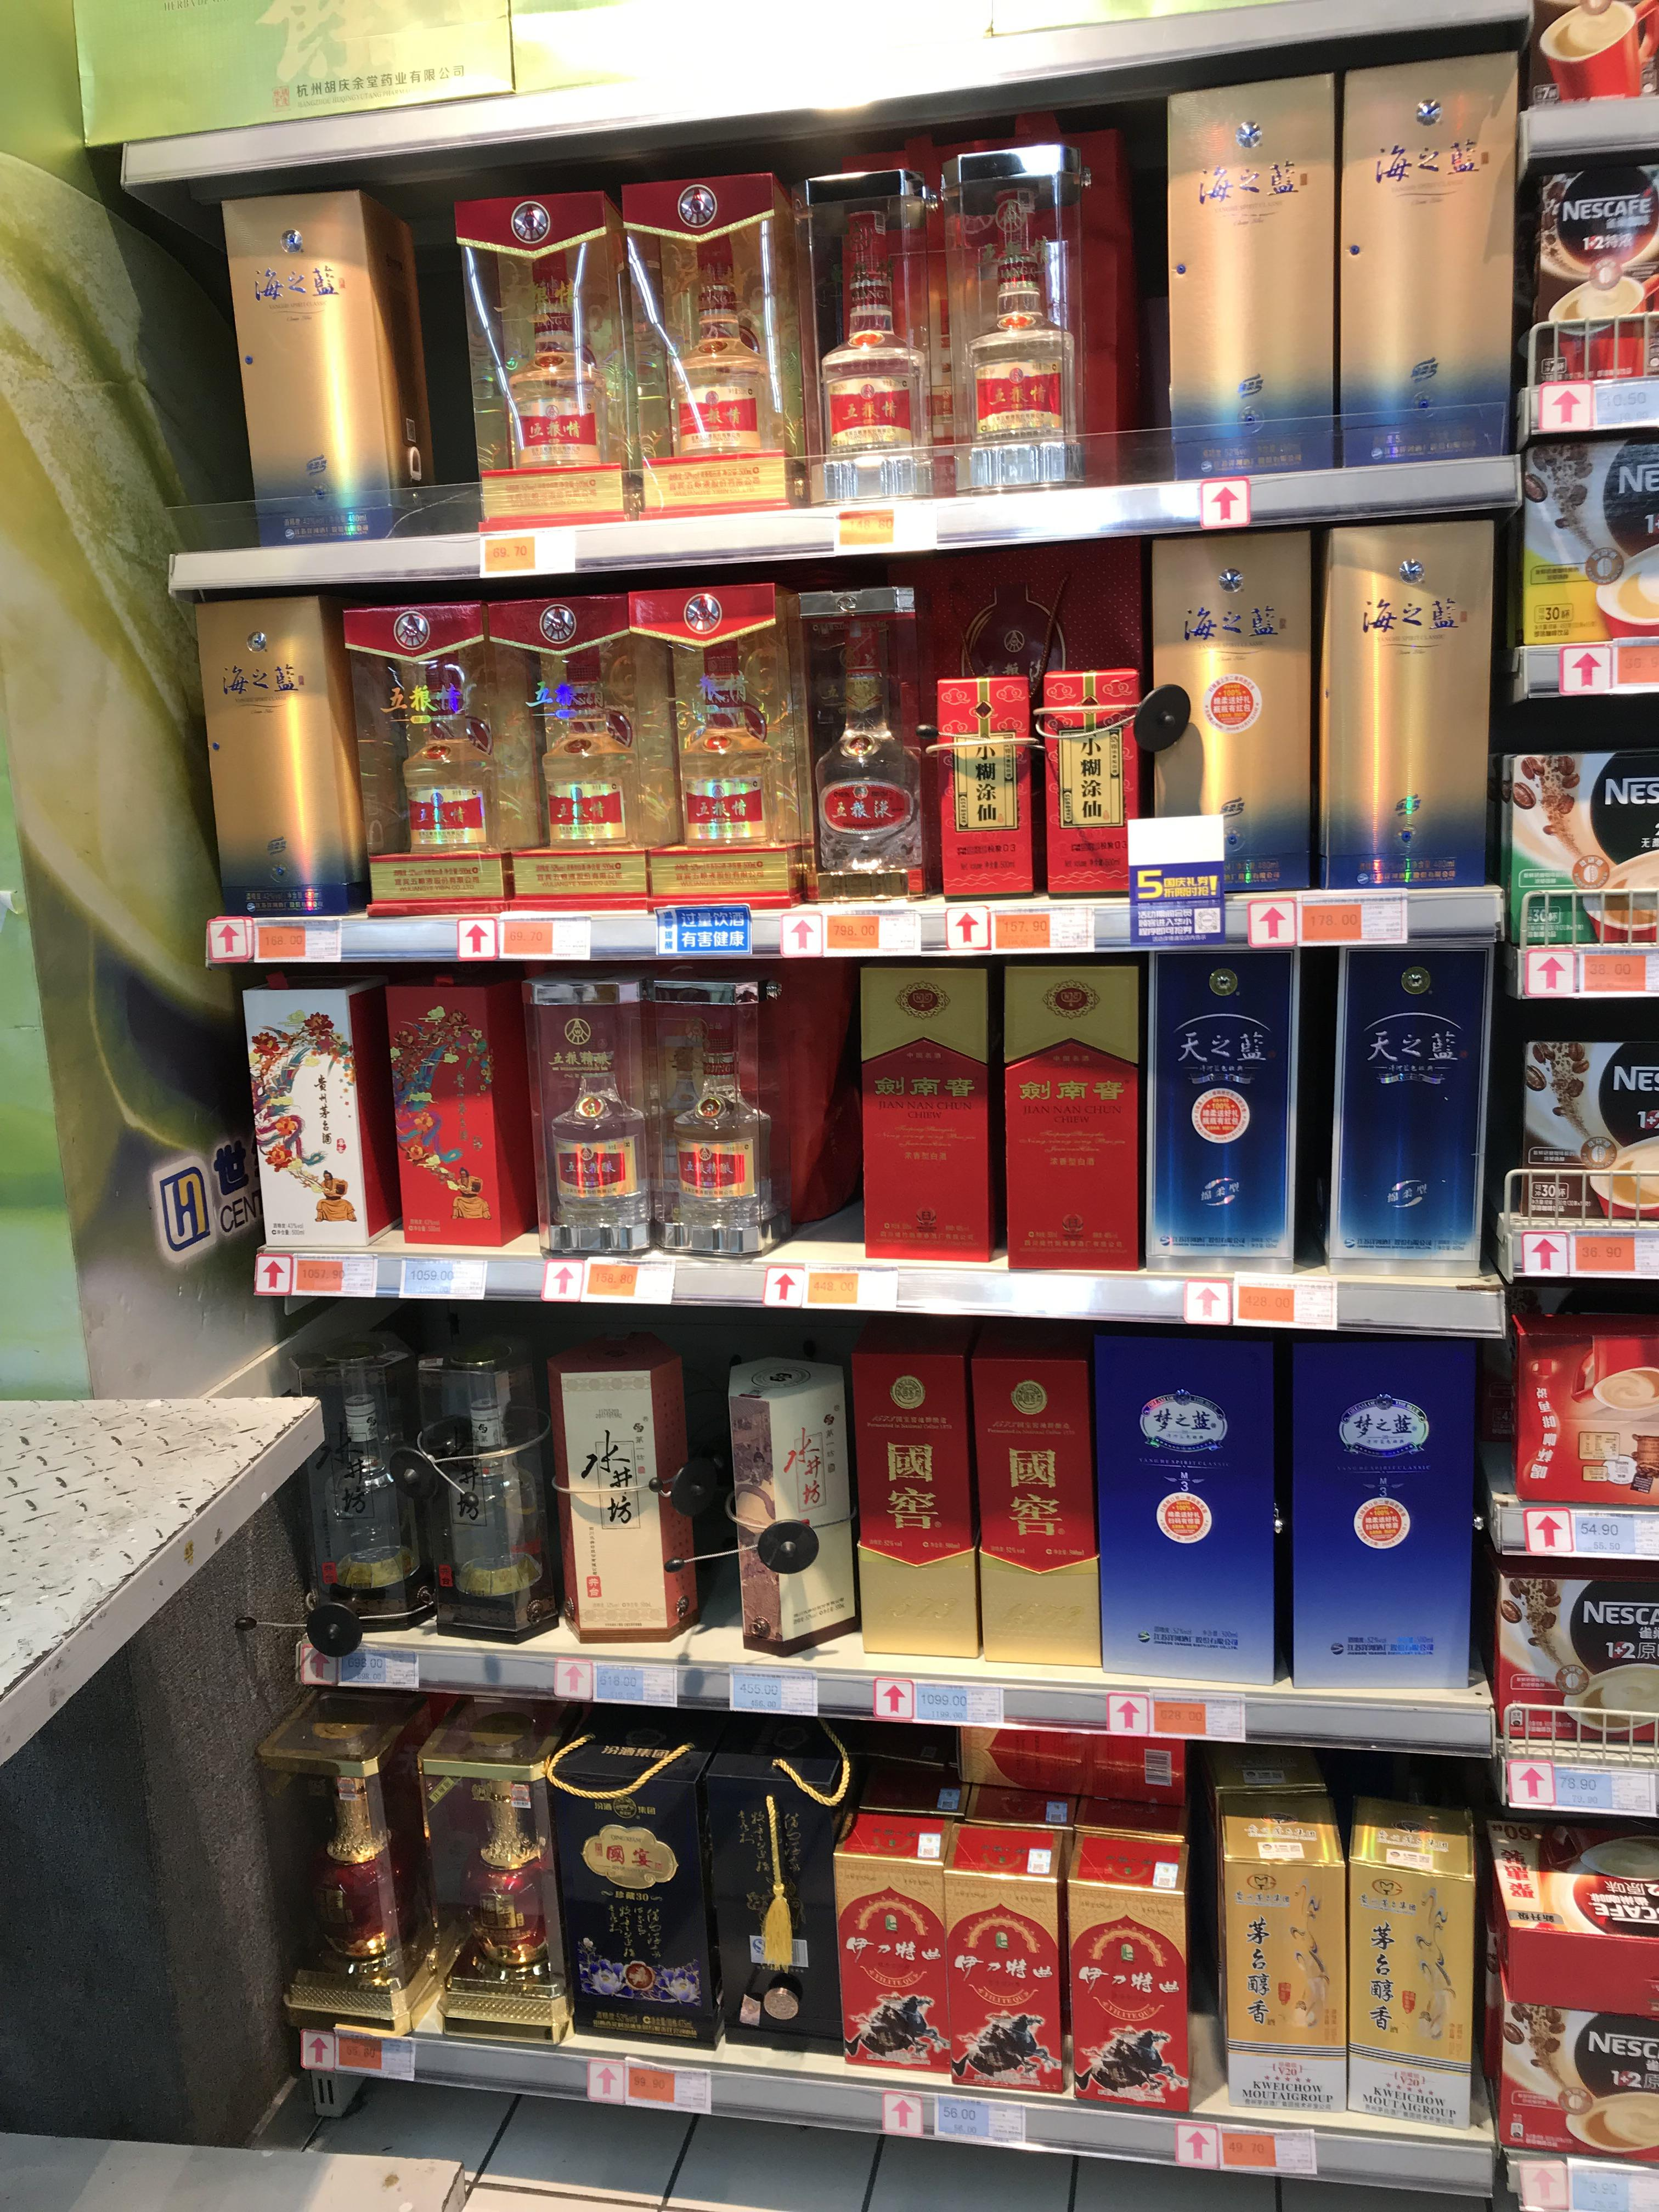bag: (455, 193, 634, 531), (554, 1717, 716, 2047), (1328, 942, 1483, 1278), (209, 592, 362, 927), (709, 1731, 850, 2062), (423, 1698, 554, 2034), (1486, 1939, 1657, 2182), (643, 970, 788, 1258), (1490, 1541, 1659, 1766), (1506, 719, 1659, 956), (1534, 124, 1659, 406), (1507, 423, 1659, 657), (1506, 1024, 1659, 1231), (1483, 1808, 1659, 1942), (932, 674, 1032, 906), (1040, 669, 1138, 897)
bottle: (786, 585, 924, 907), (430, 1348, 556, 1641)
box: (1337, 51, 1516, 472), (1166, 71, 1333, 477), (1096, 1338, 1277, 1689), (1323, 524, 1495, 888), (1150, 535, 1317, 895), (1290, 1339, 1459, 1693), (265, 1683, 423, 2036), (1145, 946, 1295, 1268), (1208, 1780, 1351, 2111), (1342, 1775, 1478, 2113), (547, 1355, 697, 1648), (240, 977, 396, 1251), (295, 1350, 436, 1639), (843, 1352, 974, 1658), (385, 967, 521, 1247), (532, 963, 650, 1254), (725, 1355, 845, 1639), (833, 1810, 951, 2080), (655, 848, 789, 902)
jar: (920, 148, 1121, 502), (807, 171, 925, 498)
others: (218, 188, 430, 538), (608, 169, 807, 514), (359, 603, 521, 928), (511, 596, 671, 925), (657, 583, 788, 913), (1000, 960, 1136, 1266), (856, 967, 993, 1254), (972, 1357, 1100, 1667), (1065, 1825, 1190, 2107), (943, 1820, 1066, 2097), (1507, 1318, 1654, 1515), (1528, 5, 1649, 113)
